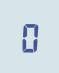zero: (19, 19, 37, 53)
